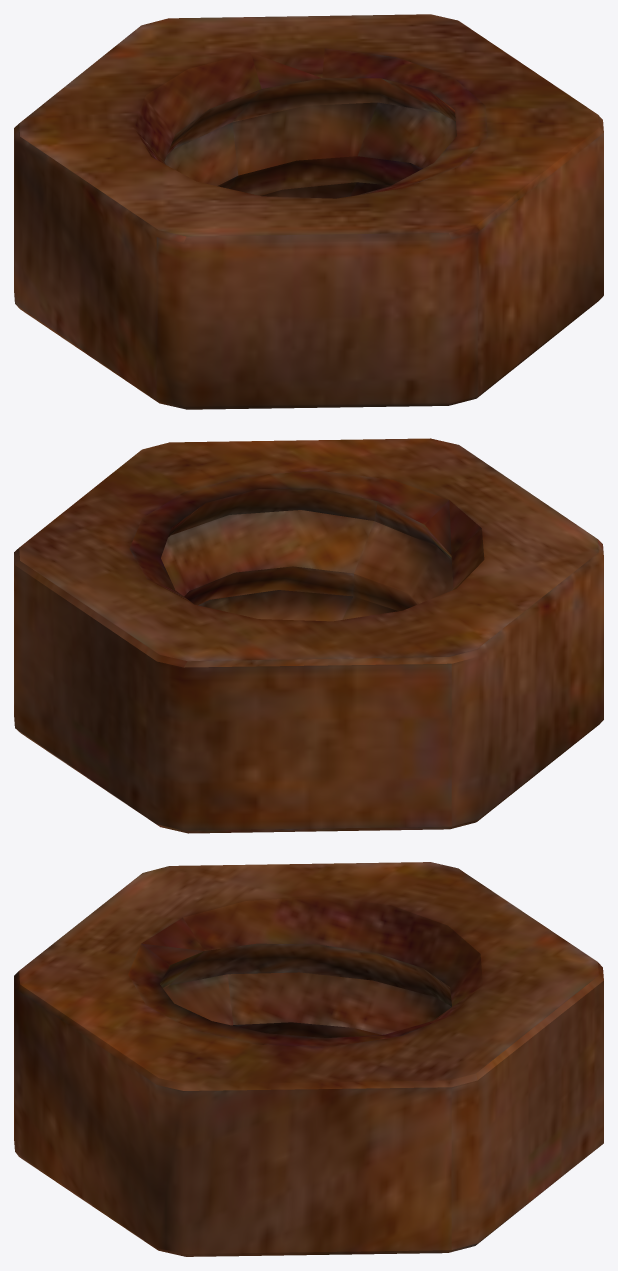
File: bolts_nuts_08.glb
3 views of the same model, one above another, from view 1: azimuth 30°, elevation 25°; view 2: azimuth 150°, elevation 25°; view 3: azimuth 270°, elevation 25° (orthographic).
Visible parts, largest first — view 1: bolts_nuts_08; view 2: bolts_nuts_08; view 3: bolts_nuts_08.
Boxes of the visible parts, bbox=[...] form: bolts_nuts_08: bbox=[14, 14, 603, 409]; bolts_nuts_08: bbox=[14, 438, 603, 833]; bolts_nuts_08: bbox=[14, 862, 603, 1256].
Size of what is drawn, in the model's own units: 0.04 by 0.0146 by 0.0442.
1 material, 1 textured.
